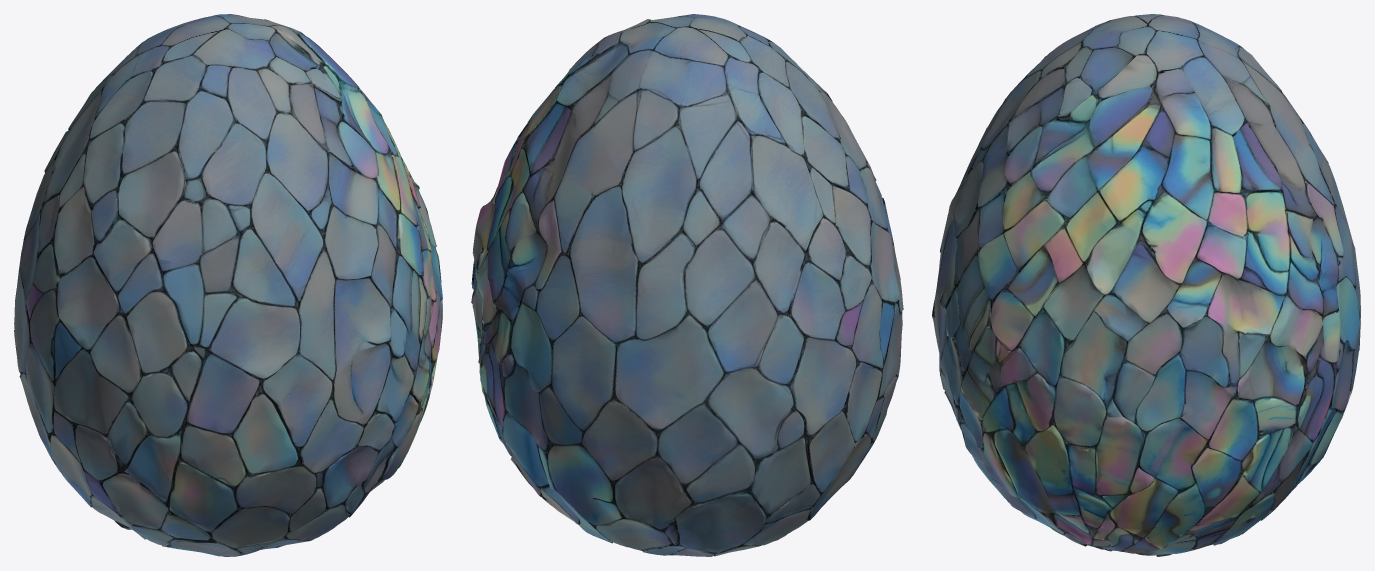
Rendered from iridescent+mosaic+egg+3d+model+1k.glb.
The picture shows the model from 3 angles, left to right: view 1: azimuth 30°, elevation 25°; view 2: azimuth 150°, elevation 25°; view 3: azimuth 270°, elevation 25°; orthographic projection.
Parts seen in each view (by area): view 1: tripo_node_3b0d24db-e860-4912-9b03-015218e72477; view 2: tripo_node_3b0d24db-e860-4912-9b03-015218e72477; view 3: tripo_node_3b0d24db-e860-4912-9b03-015218e72477.
Part boxes in pixels (x1,y1,x2,y2): tripo_node_3b0d24db-e860-4912-9b03-015218e72477: (14, 14, 442, 556); tripo_node_3b0d24db-e860-4912-9b03-015218e72477: (471, 14, 903, 556); tripo_node_3b0d24db-e860-4912-9b03-015218e72477: (932, 14, 1360, 556).
Size of the model in its own units: 0.7617 by 1 by 0.7659.
Materials: 1 (1 with a texture image).
